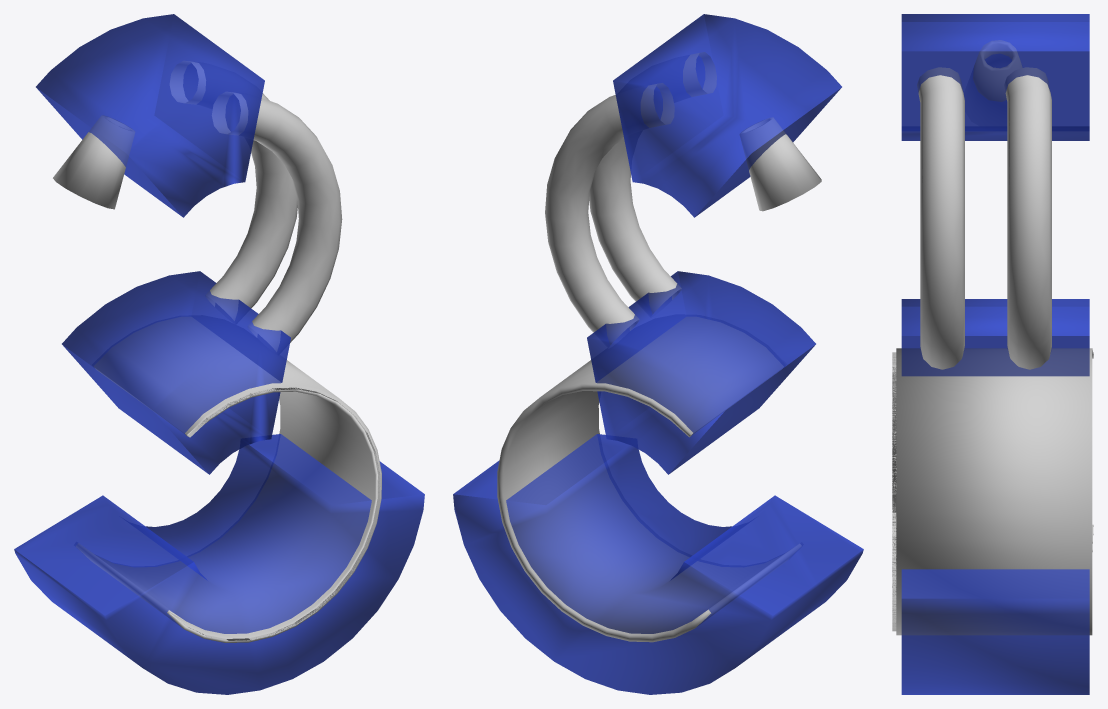
Rendered from taş_tool.obj.
The picture shows the model from 3 angles, left to right: view 1: azimuth 30°, elevation 25°; view 2: azimuth 150°, elevation 25°; view 3: azimuth 270°, elevation 25°; orthographic projection. The views are drawn at different scales.
Parts seen in each view (by area): view 1: Circle.075_Material.015, Circle.075_shiny1; view 2: Circle.075_Material.015, Circle.075_shiny1; view 3: Circle.075_shiny1, Circle.075_Material.015.
Part boxes in pixels (left/top/right/bottom): Circle.075_Material.015: left=14, top=14, right=424, bottom=694; Circle.075_shiny1: left=53, top=61, right=381, bottom=642; Circle.075_Material.015: left=453, top=14, right=863, bottom=694; Circle.075_shiny1: left=497, top=52, right=821, bottom=642; Circle.075_shiny1: left=892, top=40, right=1093, bottom=635; Circle.075_Material.015: left=901, top=14, right=1089, bottom=694.
Size of the model in its own units: 14.68 by 26.83 by 7.74.
